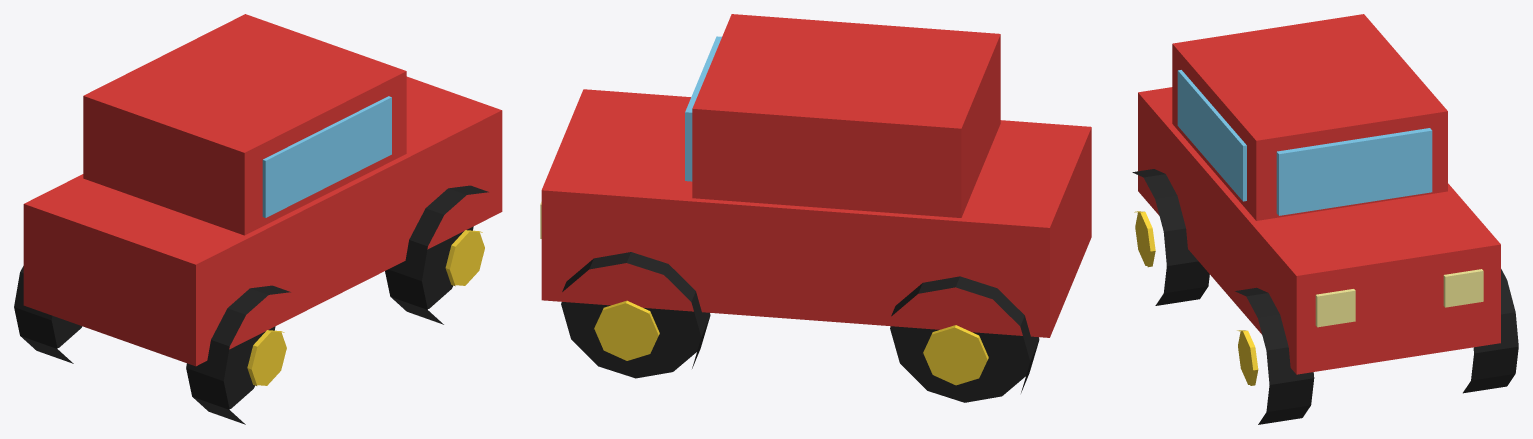
The model's file is leksaksbil.glb.
3 renders of one model, left to right at view 1: azimuth 30°, elevation 25°; view 2: azimuth 150°, elevation 25°; view 3: azimuth 270°, elevation 25°, orthographic. The views are drawn at different scales.
Visible parts, largest first — view 1: leksaksbil; view 2: leksaksbil; view 3: leksaksbil.
Boxes of the visible parts, left/top/right/bottom form: leksaksbil: left=14, top=14, right=502, bottom=424; leksaksbil: left=540, top=14, right=1091, bottom=402; leksaksbil: left=1132, top=14, right=1518, bottom=424.
Bounding box in the file's own units: 0.3743 × 0.205 × 0.2929.
